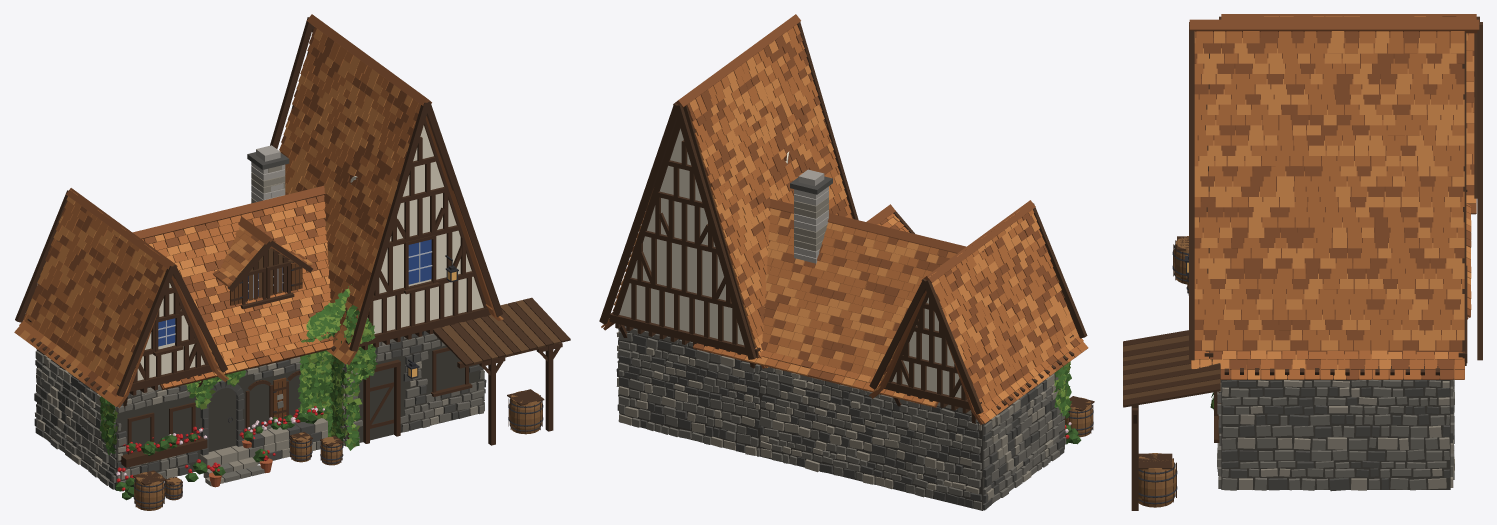
Rendered from Auberge.fbx.
3 renders of one model, left to right at view 1: azimuth 30°, elevation 25°; view 2: azimuth 150°, elevation 25°; view 3: azimuth 270°, elevation 25°, orthographic. The views are drawn at different scales.
Parts seen in each view (by area): view 1: Auberge_Colombages_Colombage, Auberge_Murs_Mortier, Auberge_ToitDroit_Tuiles, Auberge_ToitGauche_Tuiles, Auberge_Murs_Pierre, Auberge_ToitDroit_TuilesSombres, Auberge_ToitPrincipal_Tuiles, Auberge_Colombages_Platre, Auberge_ToitDroit_TuilesClaires, Auberge_ToitGauche_TuilesSombres, Auberge_Lierre_Lierre, Auberge_ToitPrincipal_TuilesSombres (+22 smaller); view 2: Auberge_Colombages_Colombage, Auberge_Murs_Pierre, Auberge_ToitPrincipal_Tuiles, Auberge_ToitDroit_Tuiles, Auberge_Murs_PierreSombre, Auberge_ToitGauche_Tuiles, Auberge_Colombages_Platre, Auberge_Murs_PierreClaire, Auberge_Murs_Mortier, Auberge_ToitDroit_TuilesClaires, Auberge_ToitDroit_TuilesSombres, Auberge_ToitPrincipal_TuilesClaires (+7 smaller); view 3: Auberge_ToitDroit_Tuiles, Auberge_ToitDroit_TuilesSombres, Auberge_ToitDroit_TuilesClaires, Auberge_Murs_Pierre, Auberge_Murs_Mortier, Auberge_Colombages_Colombage, Auberge_Murs_PierreSombre, Auberge_Auvent_Colombage, Auberge_Murs_PierreClaire, Auberge_Auvent_Planches, Auberge_ToitGauche_TuilesSombres, Auberge_Decor_Tonneau (+4 smaller).
Part boxes in pixels (left/top/right/bottom): Auberge_Colombages_Colombage: left=15, top=17, right=502, bottom=407; Auberge_Murs_Mortier: left=37, top=333, right=483, bottom=490; Auberge_ToitDroit_Tuiles: left=279, top=33, right=501, bottom=364; Auberge_ToitGauche_Tuiles: left=14, top=192, right=228, bottom=406; Auberge_Murs_Pierre: left=35, top=333, right=484, bottom=485; Auberge_ToitDroit_TuilesSombres: left=281, top=14, right=500, bottom=364; Auberge_ToitPrincipal_Tuiles: left=142, top=199, right=333, bottom=388; Auberge_Colombages_Platre: left=137, top=125, right=483, bottom=380; Auberge_ToitDroit_TuilesClaires: left=279, top=29, right=503, bottom=359; Auberge_ToitGauche_TuilesSombres: left=30, top=188, right=226, bottom=407; Auberge_Lierre_Lierre: left=99, top=286, right=377, bottom=455; Auberge_ToitPrincipal_TuilesSombres: left=115, top=174, right=354, bottom=390; Auberge_Colombages_Colombage: left=599, top=22, right=1087, bottom=423; Auberge_Murs_Pierre: left=617, top=326, right=1066, bottom=509; Auberge_ToitPrincipal_Tuiles: left=703, top=213, right=956, bottom=403; Auberge_ToitDroit_Tuiles: left=601, top=24, right=853, bottom=368; Auberge_Murs_PierreSombre: left=616, top=328, right=1065, bottom=510; Auberge_ToitGauche_Tuiles: left=886, top=209, right=1088, bottom=424; Auberge_Colombages_Platre: left=619, top=128, right=961, bottom=397; Auberge_Murs_PierreClaire: left=616, top=331, right=1064, bottom=500; Auberge_Murs_Mortier: left=619, top=325, right=1064, bottom=510; Auberge_ToitDroit_TuilesClaires: left=614, top=31, right=846, bottom=353; Auberge_ToitDroit_TuilesSombres: left=603, top=14, right=847, bottom=368; Auberge_ToitPrincipal_TuilesClaires: left=745, top=208, right=938, bottom=406; Auberge_ToitDroit_Tuiles: left=1194, top=31, right=1464, bottom=379; Auberge_ToitDroit_TuilesSombres: left=1189, top=19, right=1479, bottom=379; Auberge_ToitDroit_TuilesClaires: left=1191, top=31, right=1464, bottom=379; Auberge_Murs_Pierre: left=1217, top=379, right=1454, bottom=490; Auberge_Murs_Mortier: left=1221, top=379, right=1450, bottom=489; Auberge_Colombages_Colombage: left=1189, top=16, right=1482, bottom=379; Auberge_Murs_PierreSombre: left=1217, top=379, right=1454, bottom=491; Auberge_Auvent_Colombage: left=1123, top=330, right=1220, bottom=510; Auberge_Murs_PierreClaire: left=1219, top=379, right=1454, bottom=490; Auberge_Auvent_Planches: left=1123, top=335, right=1220, bottom=399; Auberge_ToitGauche_TuilesSombres: left=1221, top=14, right=1476, bottom=214; Auberge_Decor_Tonneau: left=1138, top=236, right=1188, bottom=507.
Size of the model in its own units: 42.15 by 33.23 by 25.1.
